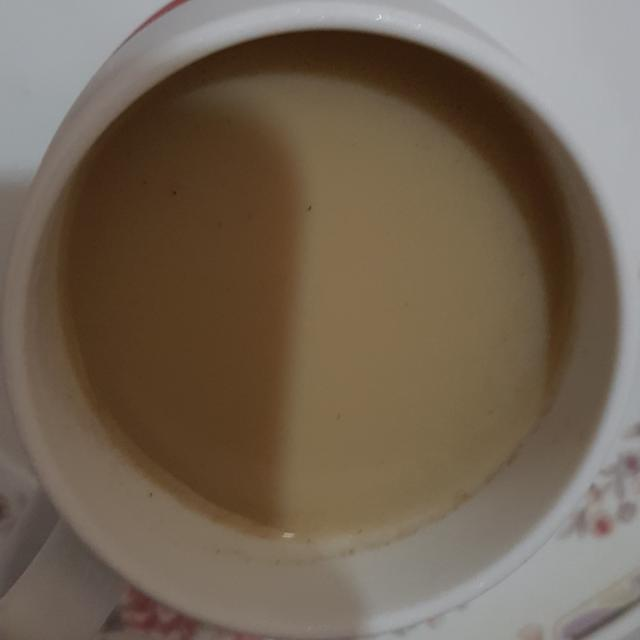Iced Coffee: (9, 10, 631, 636)
